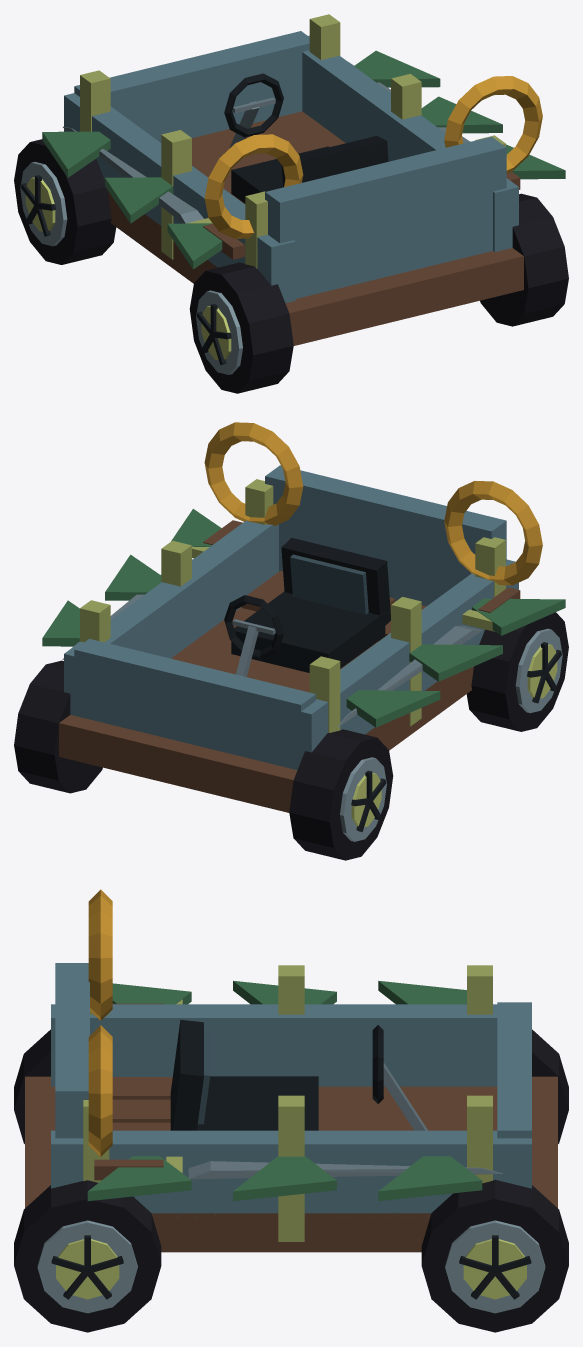
File: kart.glb
The picture shows the model from 3 angles, top to bottom: view 1: azimuth 30°, elevation 25°; view 2: azimuth 150°, elevation 25°; view 3: azimuth 270°, elevation 25°; orthographic projection. The views are drawn at different scales.
Visible parts, largest first — view 1: identity-wagon-wagon-timber-coach, wheel-rear-left, identity-wagon-motif-leaves, wheel-front-left, identity-wagon-motif-ring, identity-wagon-driver-cockpit, wheel-rear-right, identity-wagon-motif-swords; view 2: identity-wagon-wagon-timber-coach, identity-wagon-driver-cockpit, wheel-front-left, identity-wagon-motif-leaves, identity-wagon-motif-ring, wheel-rear-left, wheel-front-right, identity-wagon-motif-swords; view 3: identity-wagon-wagon-timber-coach, wheel-front-right, wheel-rear-right, identity-wagon-motif-leaves, identity-wagon-driver-cockpit, identity-wagon-motif-ring, identity-wagon-motif-swords, wheel-front-left, wheel-rear-left.
Boxes of the visible parts, x1,y1,x2,y2 form: identity-wagon-wagon-timber-coach: [64, 14, 523, 345]; wheel-rear-left: [189, 262, 293, 393]; identity-wagon-motif-leaves: [42, 50, 565, 269]; wheel-front-left: [14, 139, 116, 264]; identity-wagon-motif-ring: [204, 76, 542, 238]; identity-wagon-driver-cockpit: [224, 73, 388, 203]; wheel-rear-right: [480, 193, 568, 326]; identity-wagon-motif-swords: [63, 62, 520, 259]; identity-wagon-wagon-timber-coach: [59, 465, 518, 812]; identity-wagon-driver-cockpit: [224, 538, 390, 676]; wheel-front-left: [289, 729, 393, 860]; identity-wagon-motif-leaves: [42, 509, 565, 727]; identity-wagon-motif-ring: [204, 422, 542, 585]; wheel-rear-left: [466, 612, 568, 731]; wheel-front-right: [14, 660, 102, 793]; identity-wagon-motif-swords: [62, 520, 520, 727]; identity-wagon-wagon-timber-coach: [25, 963, 557, 1252]; wheel-front-right: [421, 1179, 568, 1332]; wheel-rear-right: [14, 1180, 161, 1332]; identity-wagon-motif-leaves: [87, 980, 482, 1201]; identity-wagon-driver-cockpit: [170, 1019, 427, 1130]; identity-wagon-motif-ring: [88, 889, 112, 1156]; identity-wagon-motif-swords: [94, 999, 502, 1180]; wheel-front-left: [532, 1029, 568, 1143]; wheel-rear-left: [14, 1029, 50, 1143].
Bounding box in the file's own units: 2.3 × 1.42 × 2.56.
